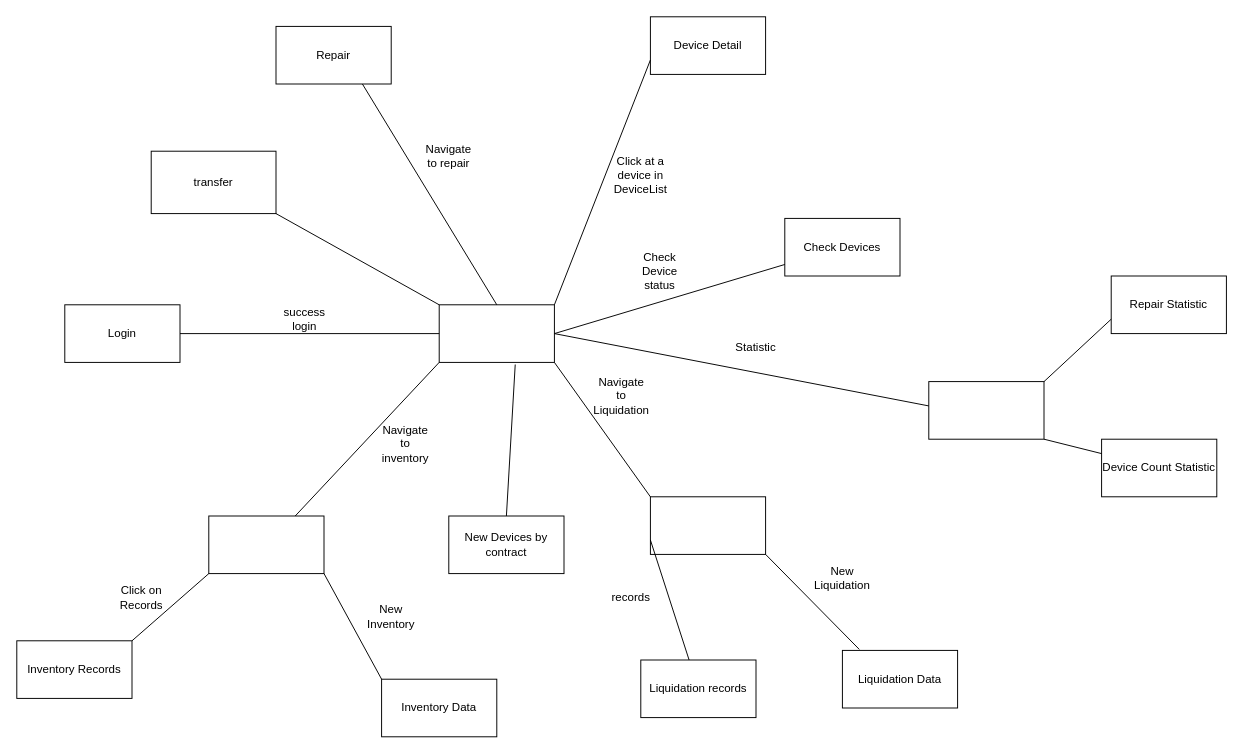
This 1243x754 diagram has some shape labels left out. The centre of each missing label's shape, as x and y in pixels:
"DeviceList" goes at point (496, 333).
"Inventory" goes at point (266, 544).
"Liquidation" goes at point (707, 525).
"Statistic Screen" goes at point (986, 410).
